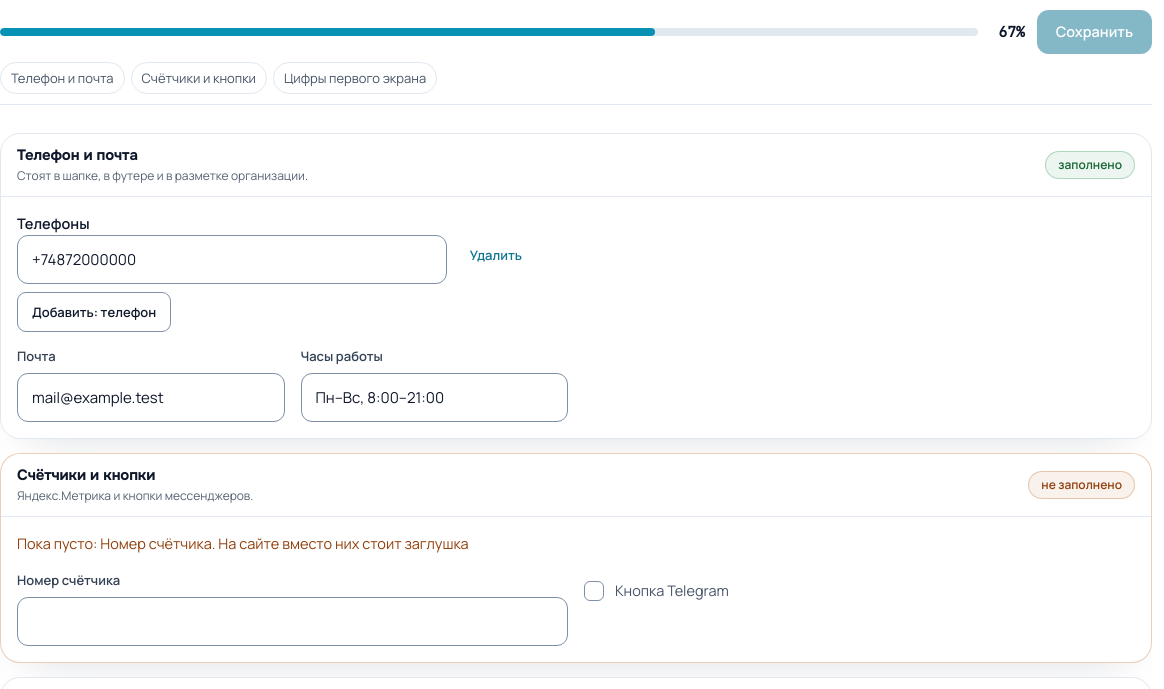
it: Данные компании: одна кнопка на тринадцать групп › сводка отказа ведёт к своей группе, а не заставляет листать страницу
Type "x" into the field labelled "Почта". click: (151, 398)
box: [17, 373, 284, 422]
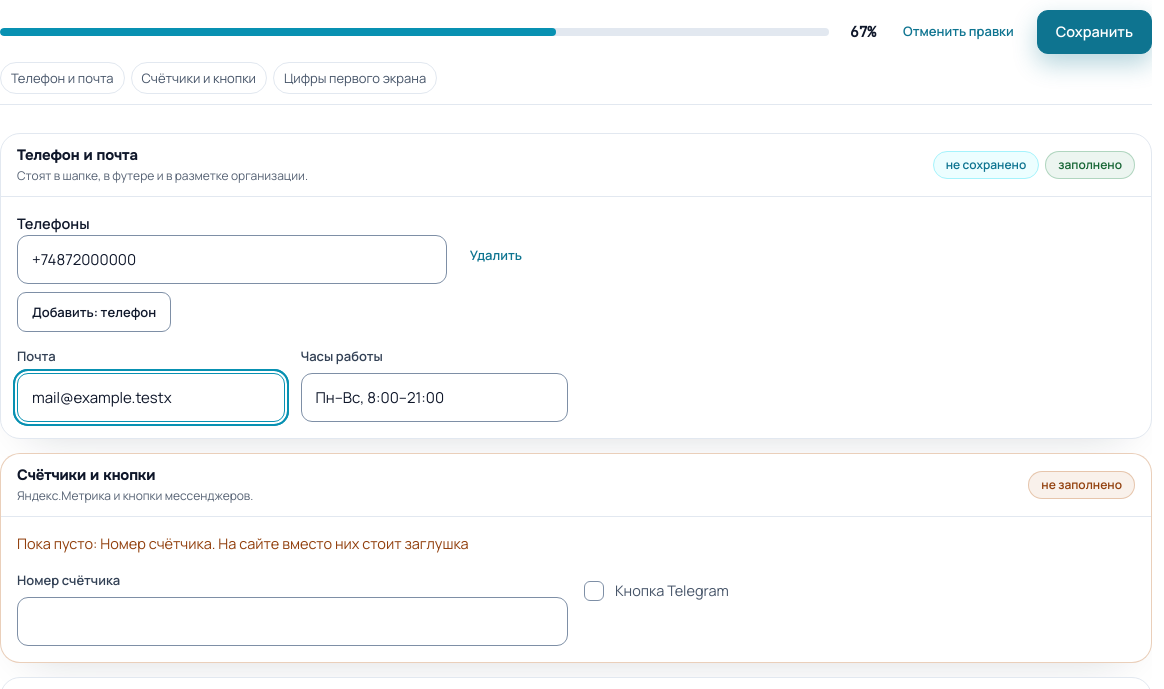
Click the button "Сохранить". click: (1094, 32)
box: [1037, 10, 1152, 54]
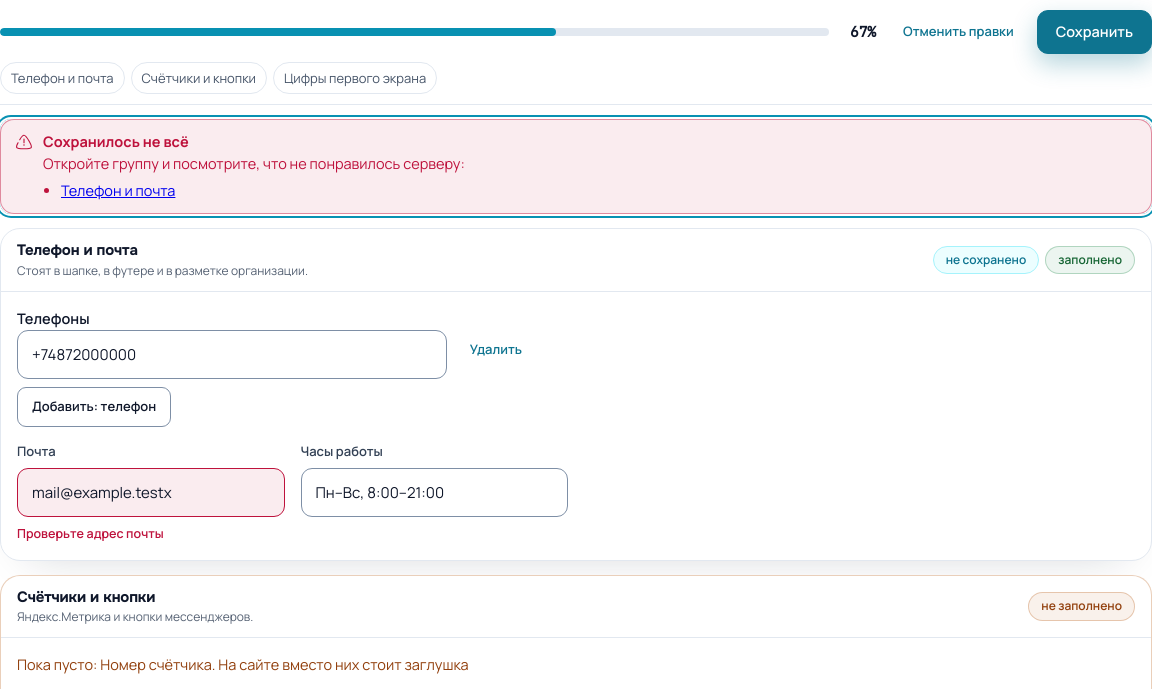
Now the link with id "contacts" reads "Телефон и почта", box [61, 181, 175, 200]
